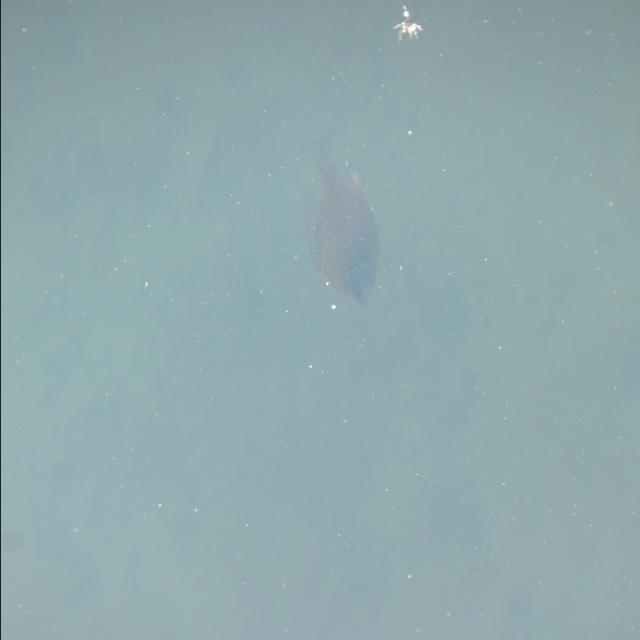Gunes Levregi: (302, 151, 380, 307)
